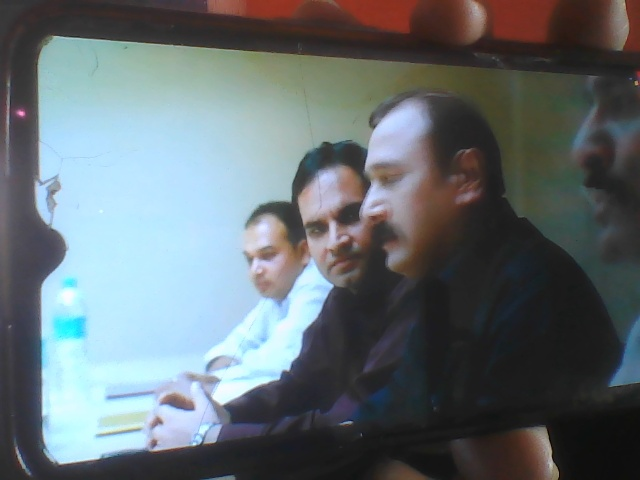fake: (316, 79, 468, 294)
